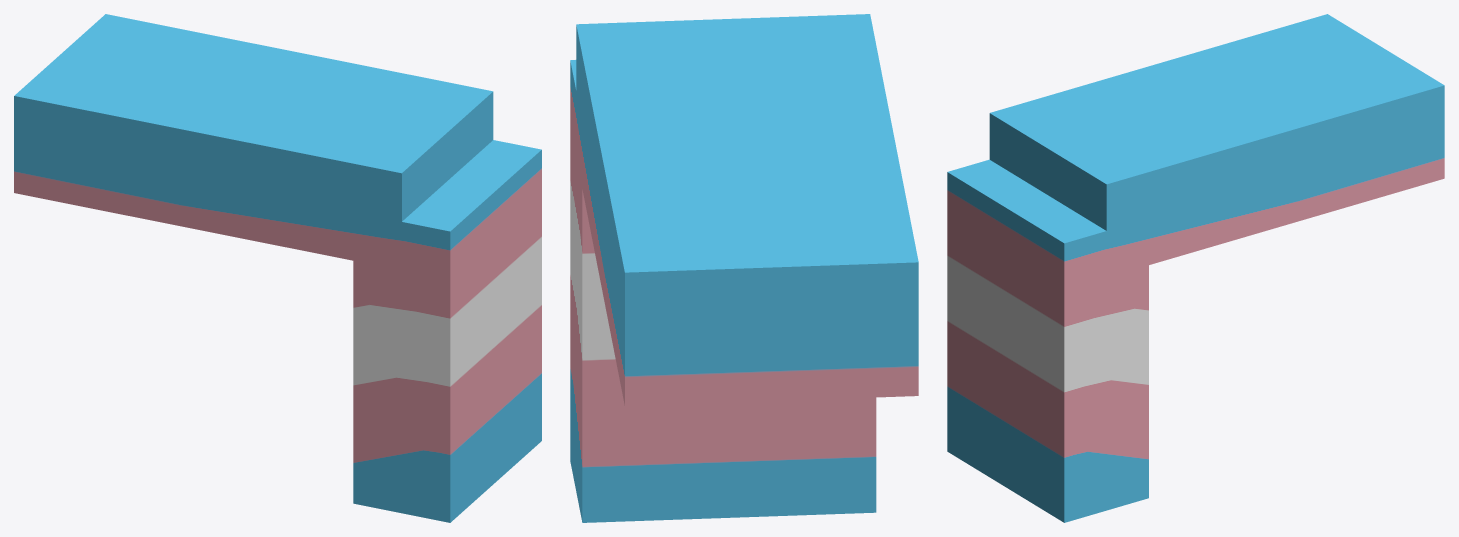
File: Trans Plume.fbx
3 views of the same model, side by side, from view 1: azimuth 30°, elevation 25°; view 2: azimuth 150°, elevation 25°; view 3: azimuth 270°, elevation 25° (orthographic). The views are drawn at different scales.
Parts seen in each view (by area): view 1: Plume; view 2: Plume; view 3: Plume.
Boxes of the visible parts, x1,y1,x2,y2 form: Plume: [14, 14, 541, 522]; Plume: [570, 14, 918, 522]; Plume: [947, 14, 1444, 522].
Size of the model in its own units: 42.07 by 35 by 48.38.
1 material, 1 textured.
